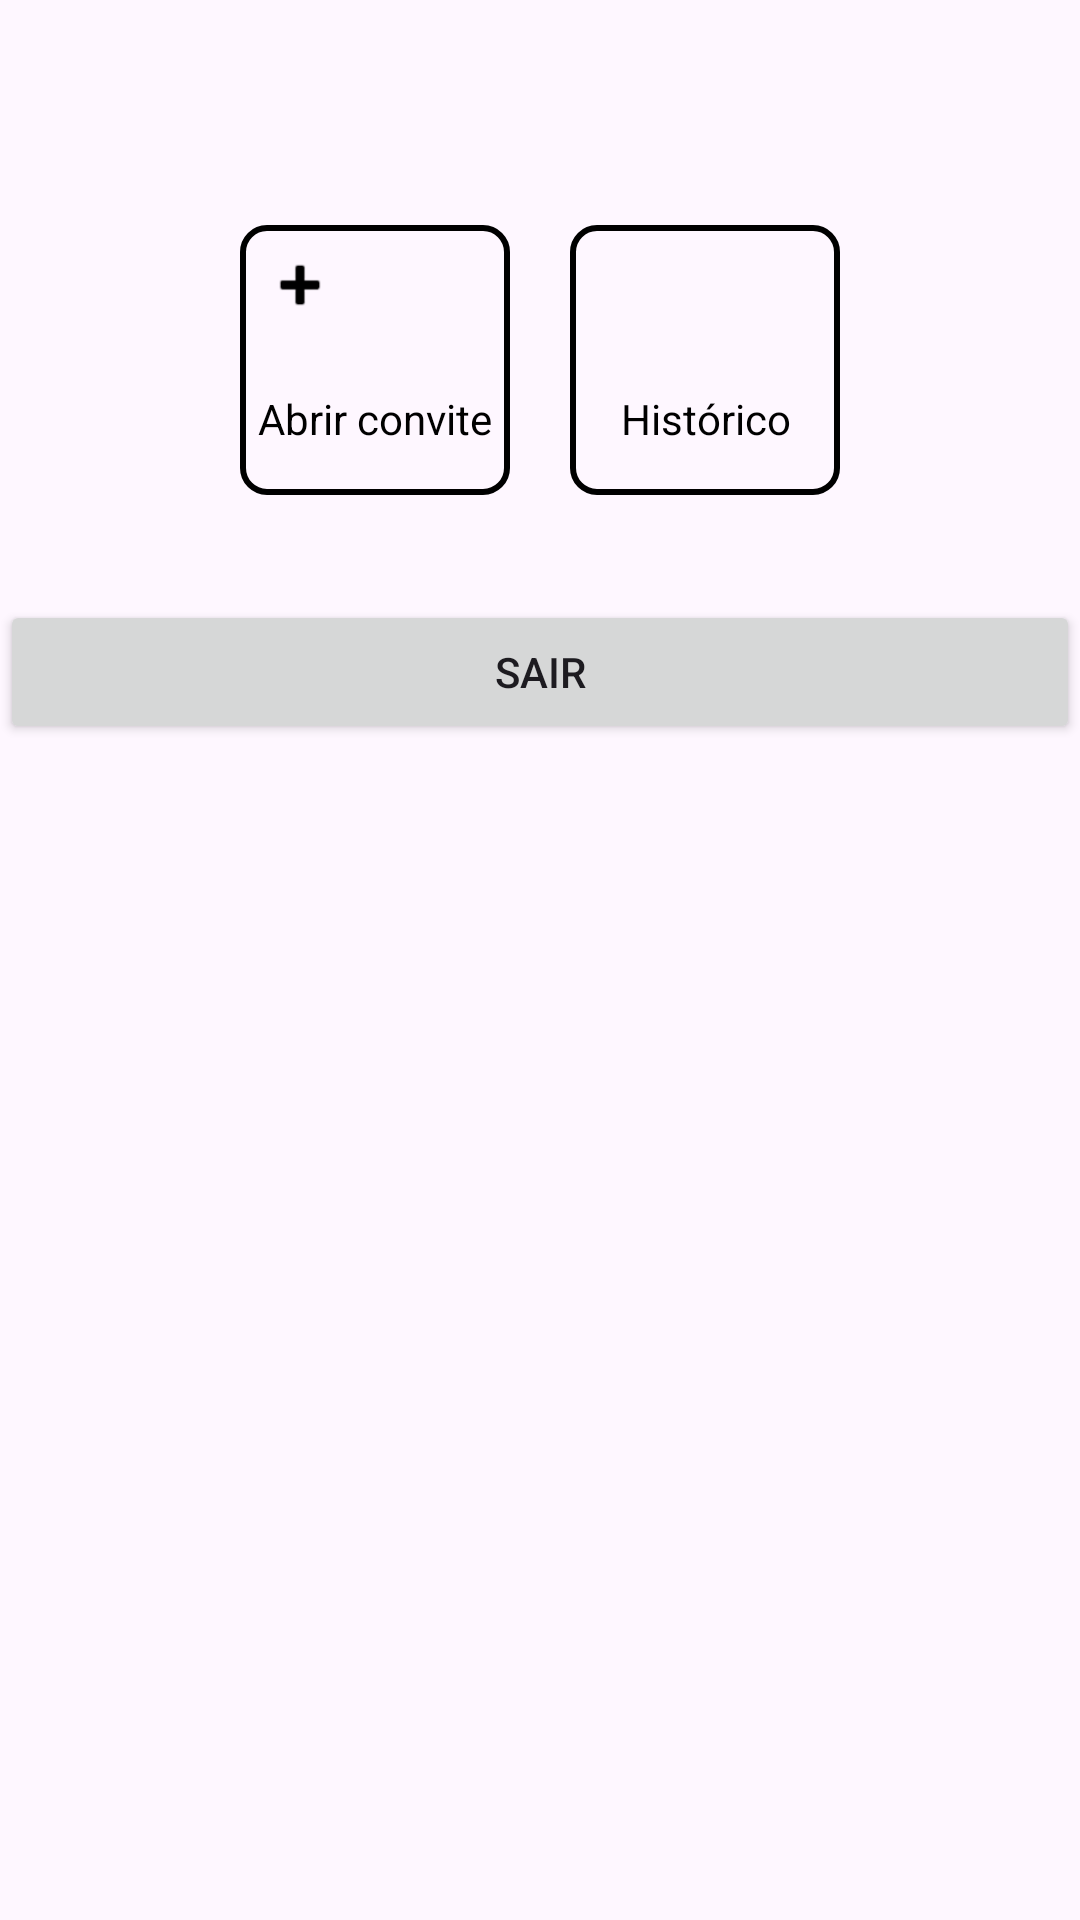

Named icons in this screenshot (1080w x 1920h) and their centers, [x,y]:
add: [300,285]
